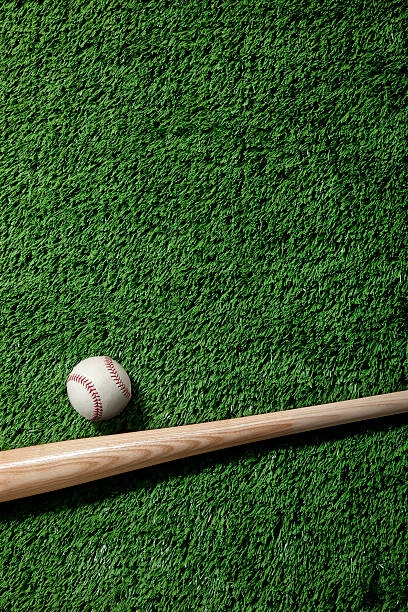bita: (1, 387, 406, 505)
